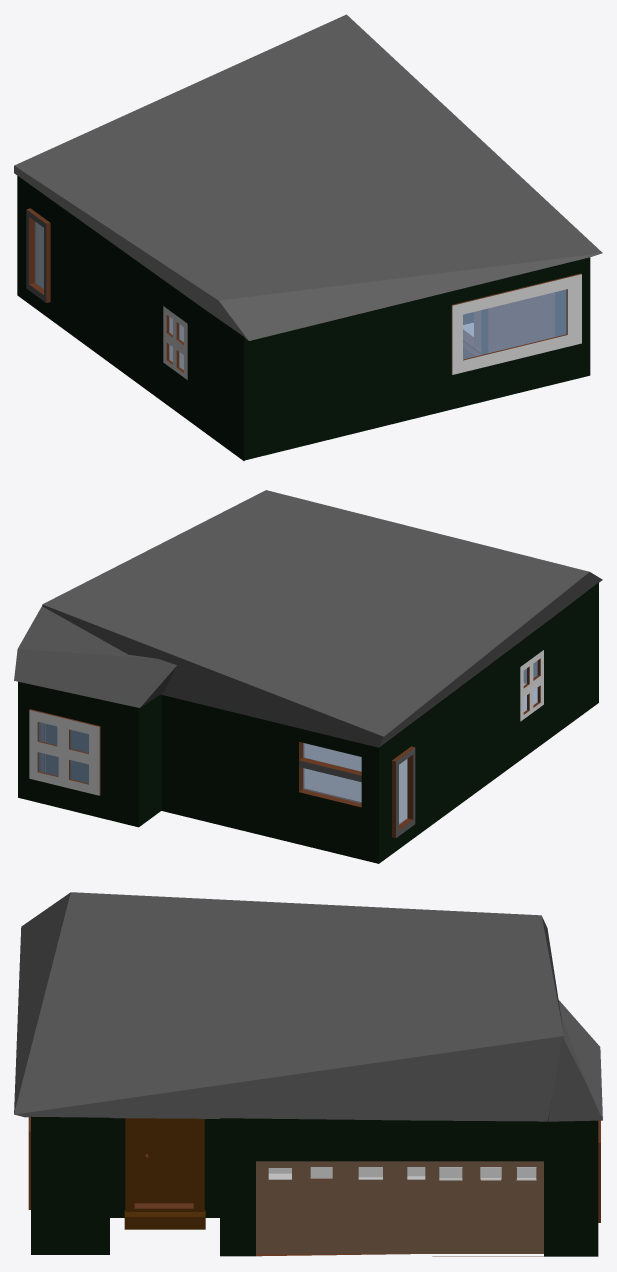
The model's file is house9.fbx.
3 views of the same model, one above another, from view 1: azimuth 30°, elevation 25°; view 2: azimuth 150°, elevation 25°; view 3: azimuth 270°, elevation 25° (orthographic). The views are drawn at different scales.
Visible parts, largest first — view 1: house9, Cube; view 2: house9, Cube; view 3: house9.
Part boxes in pixels (x1,y1,x2,y2): house9: (14,14,602,460); Cube: (34,221,43,289); house9: (14,490,602,863); Cube: (399,758,407,824); house9: (14,892,602,1256).
Bounding box in the file's own units: 2078 × 1073 × 2603.
